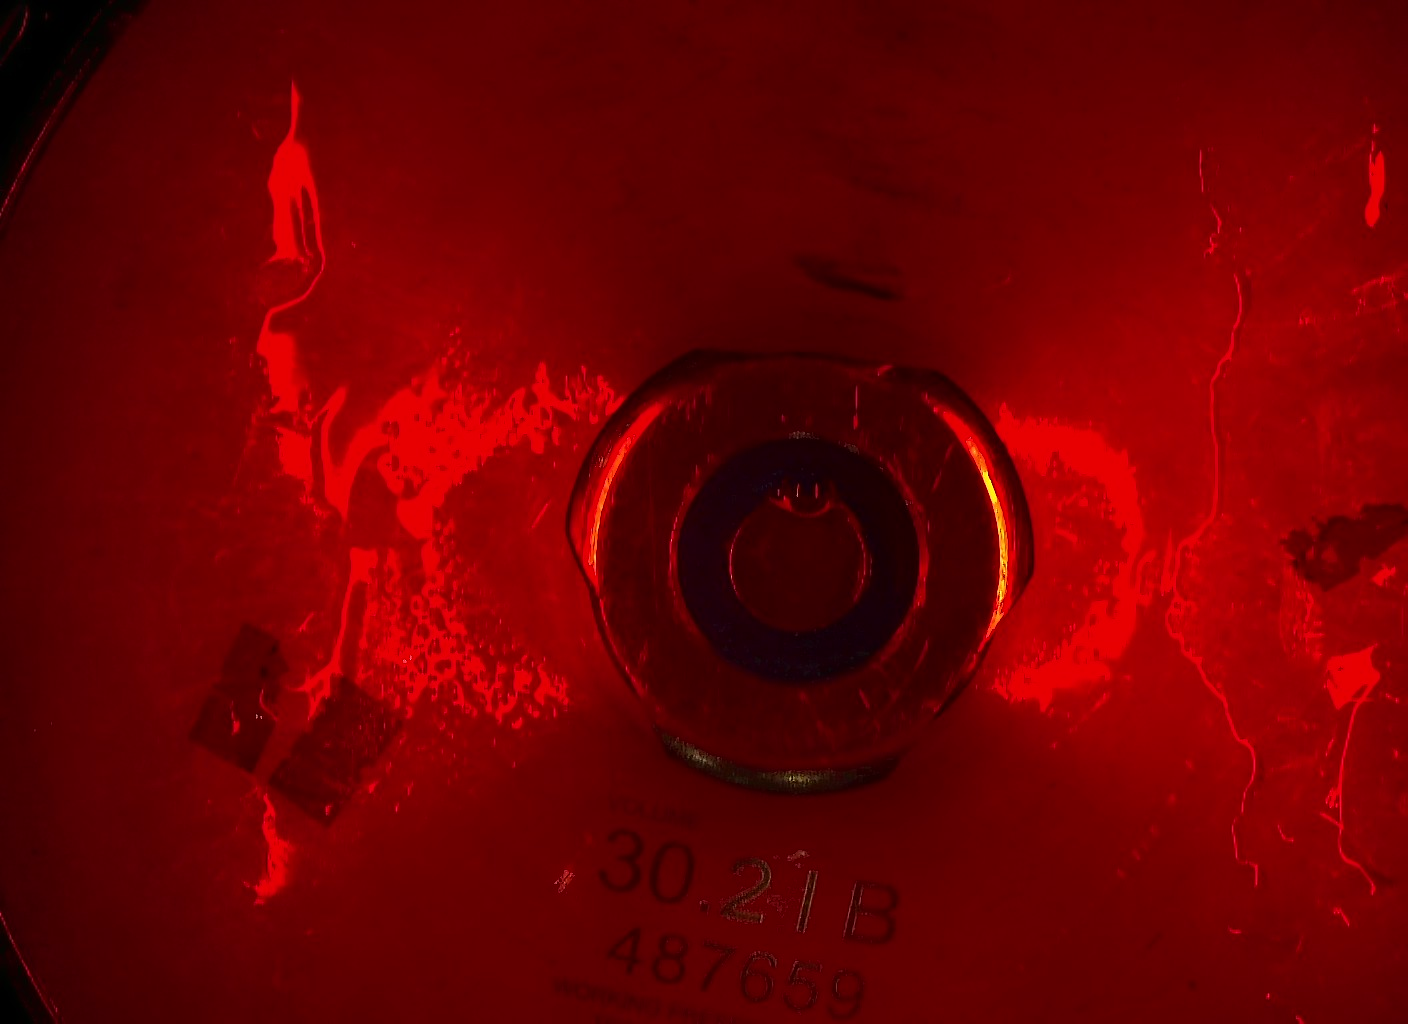pena: (761, 464, 849, 526)
